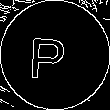P_N: (35, 29, 75, 81)
